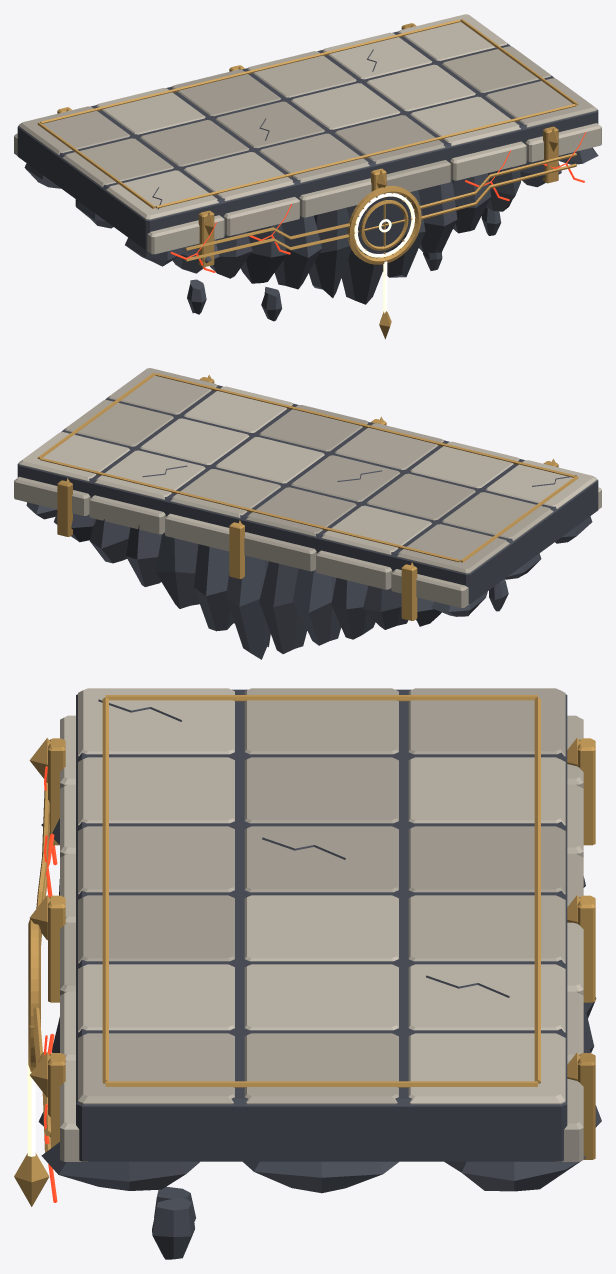
Rendered from Eclipse_Upper_v001.fbx.
3 views of the same model, one above another, from view 1: azimuth 30°, elevation 25°; view 2: azimuth 150°, elevation 25°; view 3: azimuth 270°, elevation 25° (orthographic). The views are drawn at different scales.
Visible parts, largest first — view 1: Eclipse_Upper; view 2: Eclipse_Upper; view 3: Eclipse_Upper.
Boxes of the visible parts, x1,y1,x2,y2 form: Eclipse_Upper: [14, 14, 601, 339]; Eclipse_Upper: [14, 368, 601, 659]; Eclipse_Upper: [14, 688, 601, 1259].
Bounding box in the file's own units: 6.65 × 2.38 × 3.97.
